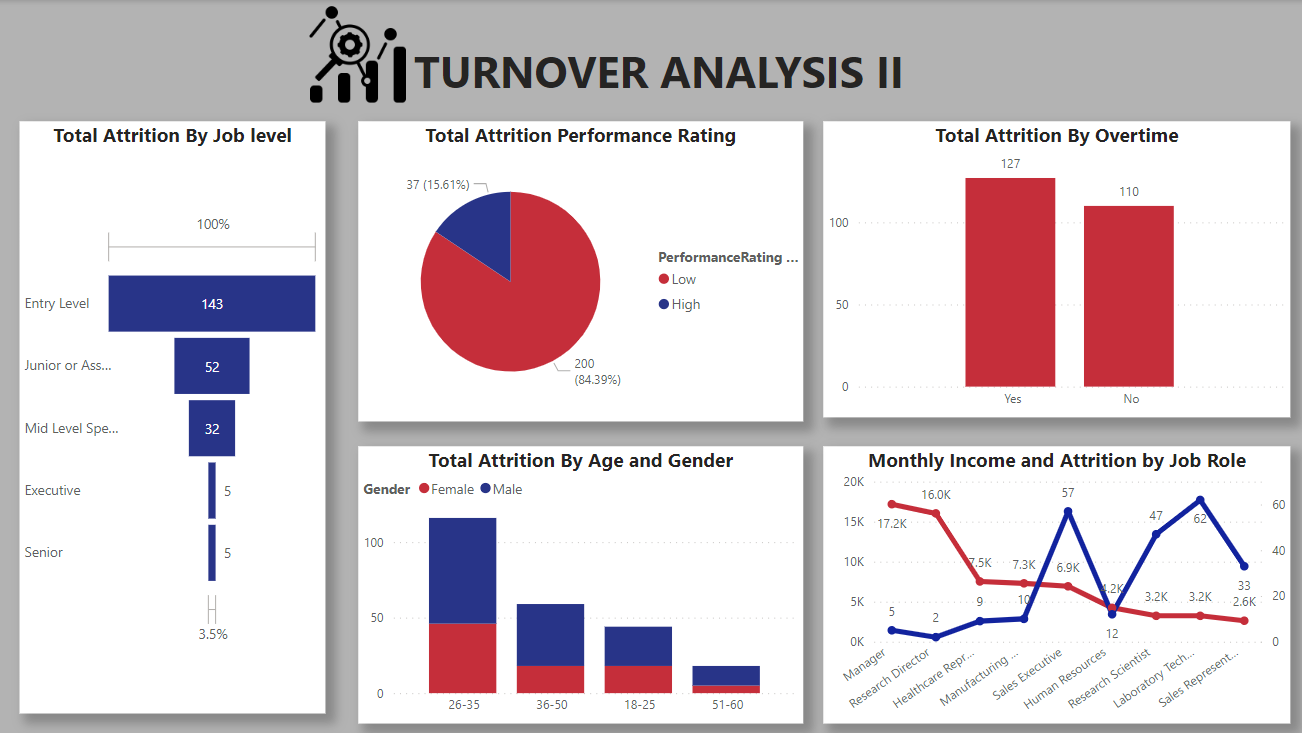

This screenshot's page, from the dashboard's own definition file:
{"tool":"powerbi","page":{"name":"Turnover Analysis II","canvas":[1280,720],"ordinal":3},"visuals":[{"type":"textbox","box":[0,0,1279.9,106.3],"z":0},{"type":"funnel","title":"Total Attrition By Job level","fields":{"Y":["Sum(HR-Employee-Attrition.Attrition Count)"],"Category":["HR-Employee-Attrition.JobLevel (groups)"]},"box":[22,118.6,299.5,579.4],"z":1000},{"type":"lineChart","title":"Monthly Income and Attrition by Job Role","fields":{"Category":["HR-Employee-Attrition.JobRole"],"Y":["Avg(HR-Employee-Attrition.MonthlyIncome)"],"Y2":["Sum(HR-Employee-Attrition.Attrition Count)"]},"box":[808,436.4,457.2,271.4],"z":2000},{"type":"columnChart","title":"Total Attrition By Age and Gender","fields":{"Y":["Sum(HR-Employee-Attrition.Attrition Count)"],"Series":["HR-Employee-Attrition.Gender"],"Category":["HR-Employee-Attrition.Age (groups)"]},"box":[353.3,436.4,435.2,271.4],"z":3000},{"type":"donutChart","title":"Total Attrition Performance Rating ","fields":{"Y":["Sum(HR-Employee-Attrition.Attrition Count)"],"Category":["HR-Employee-Attrition.PerformanceRating (groups)"]},"box":[353.3,118.6,435.2,293.4],"z":4000},{"type":"image","box":[298.3,0,110,106.3],"z":5000},{"type":"columnChart","title":"Total Attrition By Overtime","fields":{"Y":["Sum(HR-Employee-Attrition.Attrition Count)"],"Category":["HR-Employee-Attrition.OverTime"]},"box":[808,118.6,457.2,289.7],"z":6000}]}

Visuals, with their boxes in screenshot pixels (x1, y1, x2, y2), scaled from the page's 1280x720 canvas onto the 1302x733 screenshot:
textbox: (x1=0, y1=0, x2=1301, y2=108)
"Total Attrition By Job level" funnel: (x1=22, y1=121, x2=327, y2=711)
"Monthly Income and Attrition by Job Role" lineChart: (x1=822, y1=444, x2=1287, y2=721)
"Total Attrition By Age and Gender" columnChart: (x1=359, y1=444, x2=802, y2=721)
"Total Attrition Performance Rating " donutChart: (x1=359, y1=121, x2=802, y2=419)
image: (x1=303, y1=0, x2=415, y2=108)
"Total Attrition By Overtime" columnChart: (x1=822, y1=121, x2=1287, y2=416)
